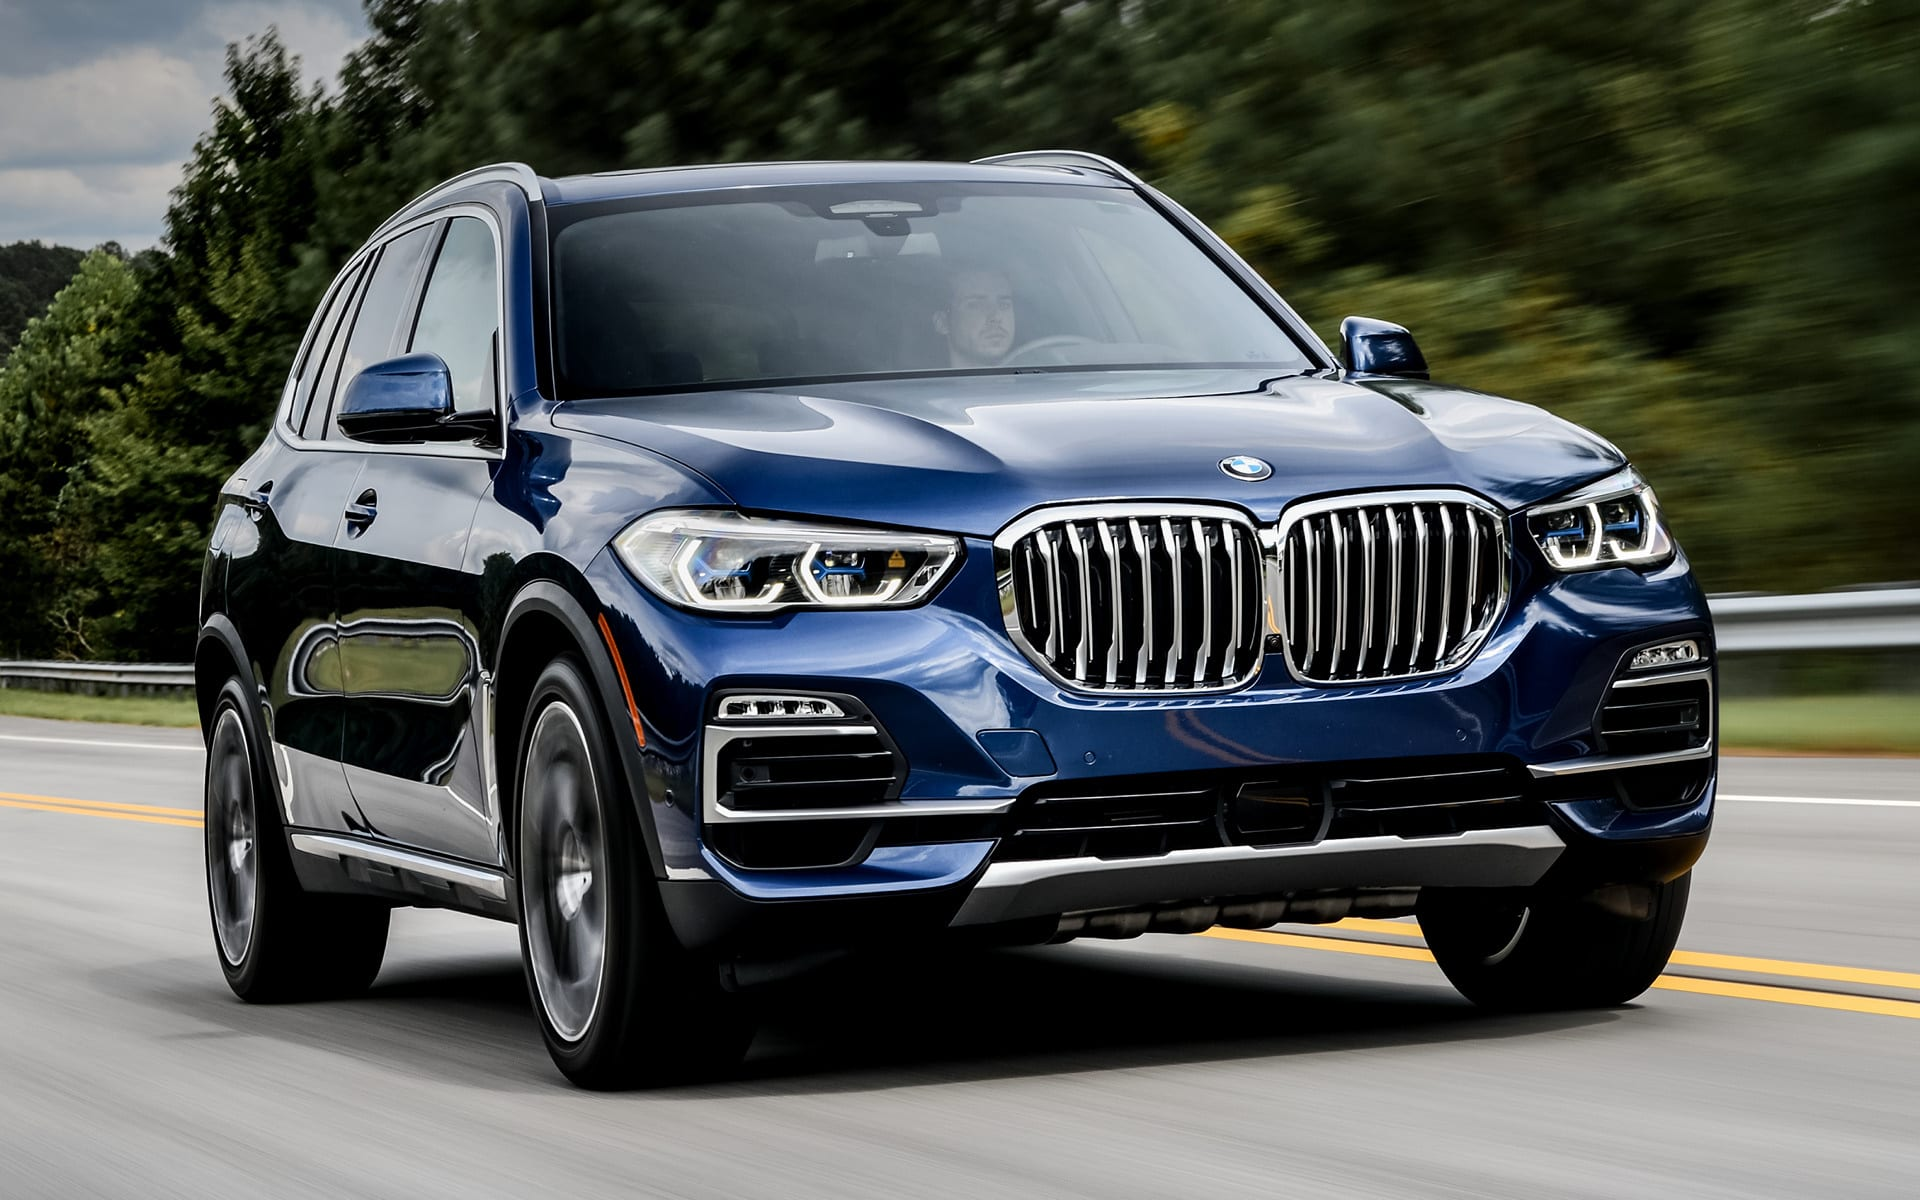car: (189, 149, 1721, 1094)
